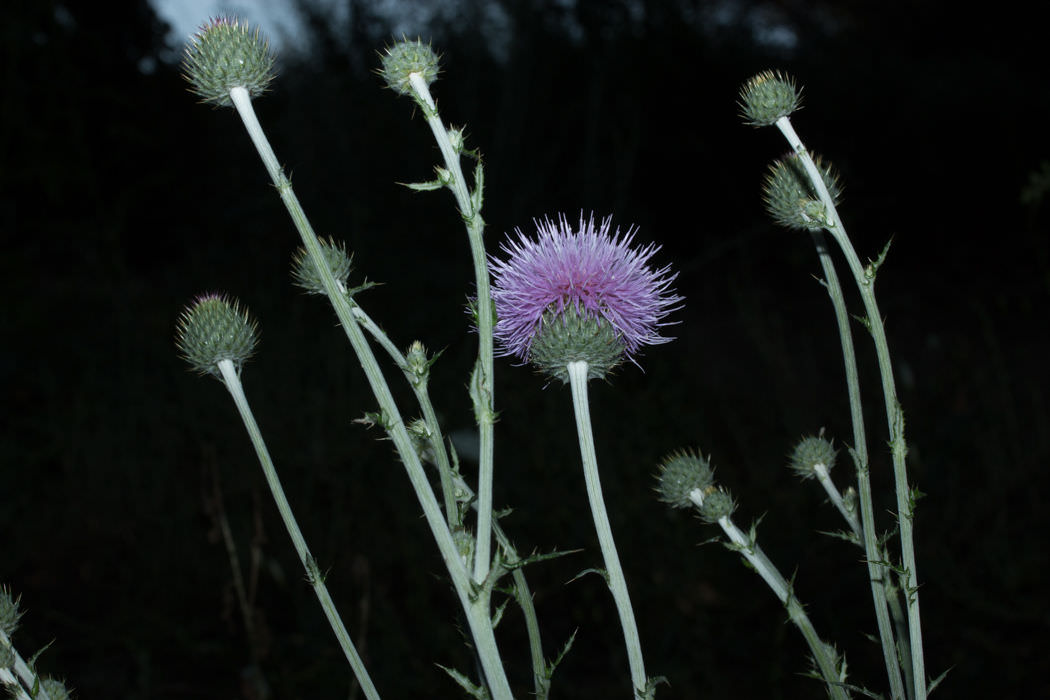thistle: (475, 229, 686, 381)
